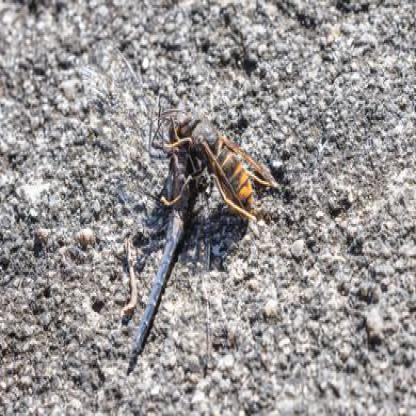Asian Hornet: (152, 116, 268, 228)
